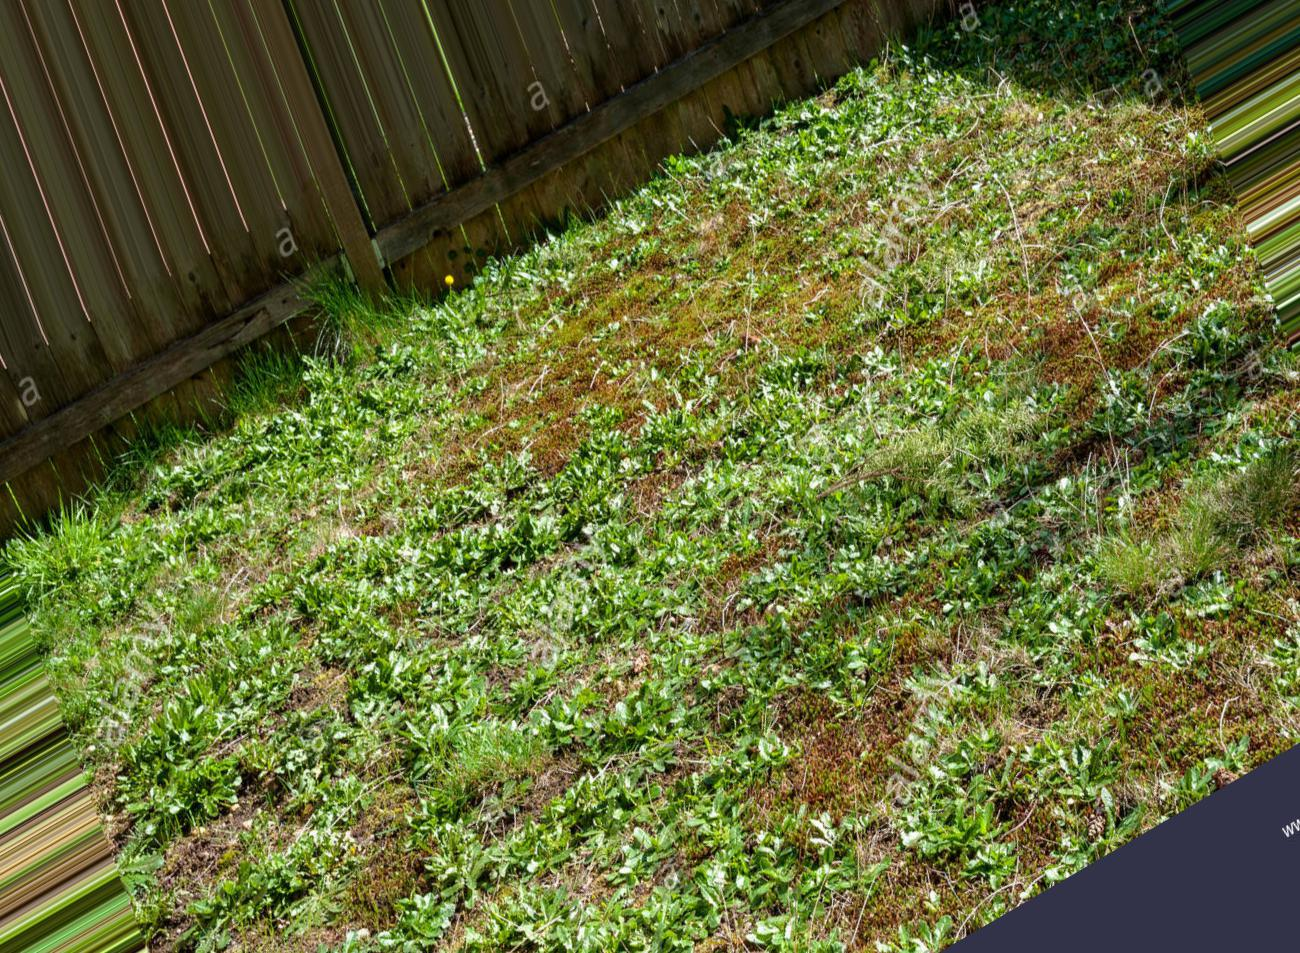patch: (595, 284, 735, 394), (495, 341, 580, 451), (757, 269, 857, 361), (945, 326, 1047, 381), (845, 741, 910, 799)
